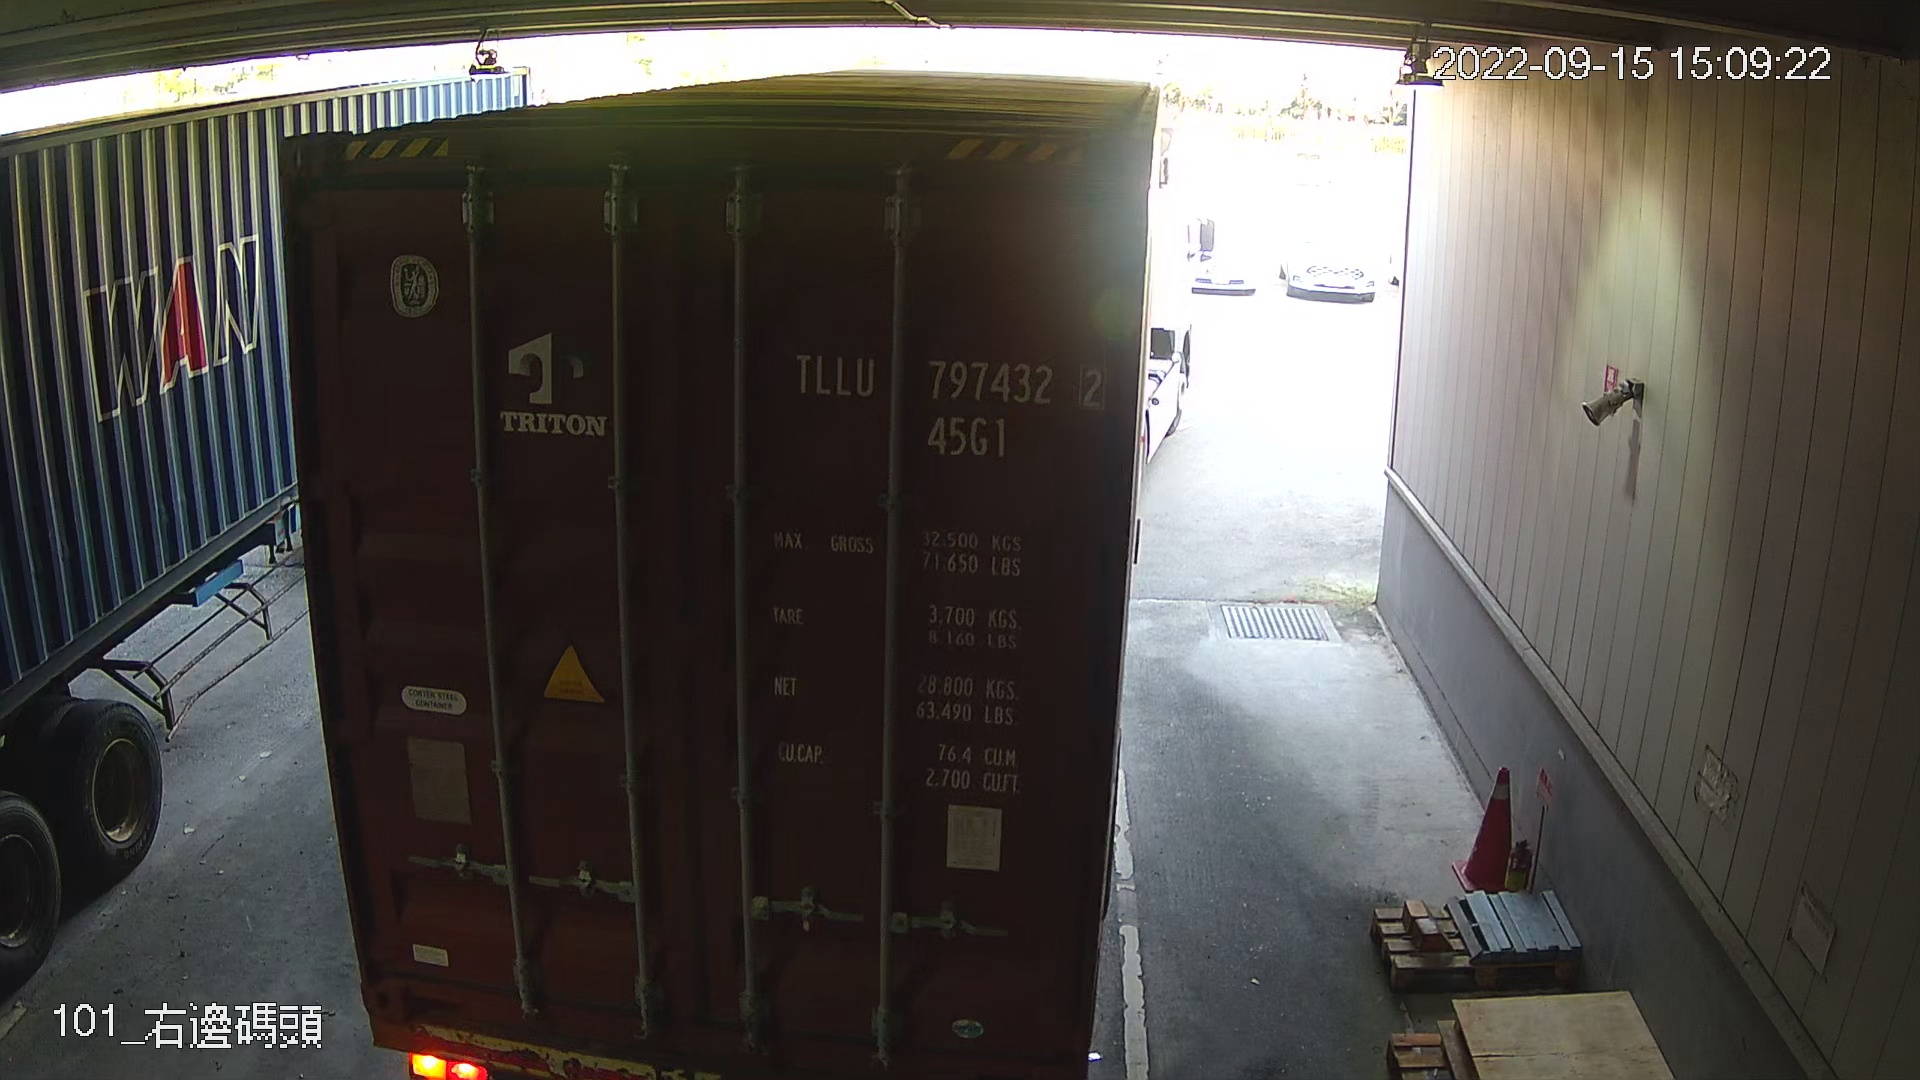container: (771, 334, 1110, 467)
